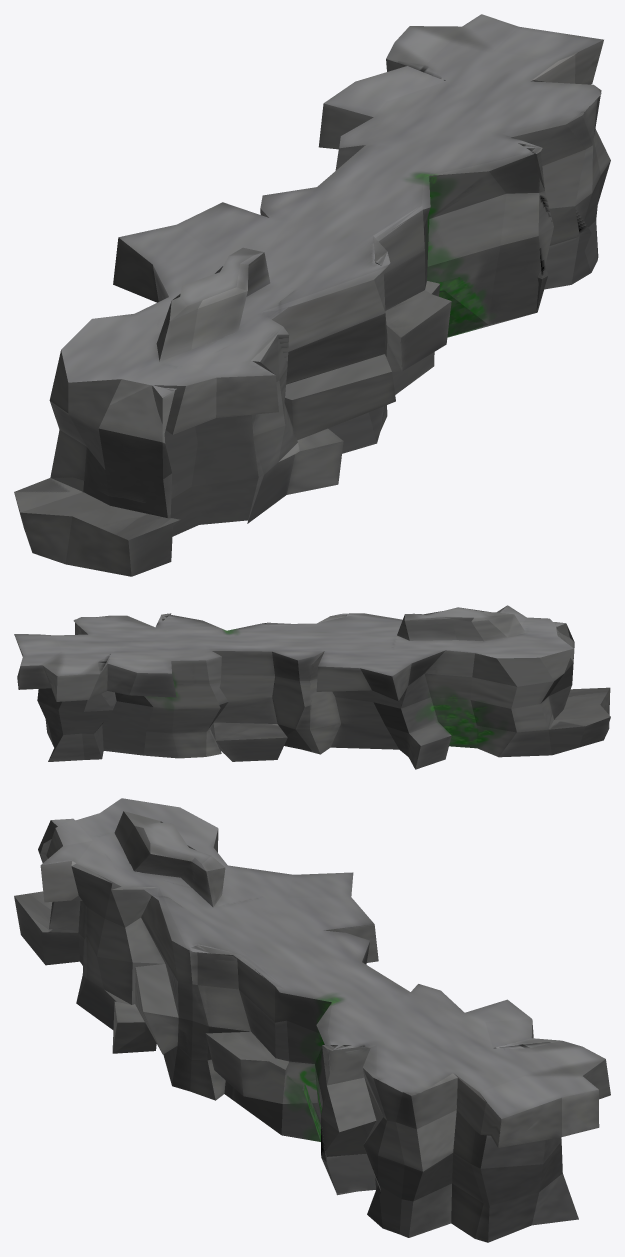
Rendered from batu 5.fbx.
3 renders of one model, top to bottom at view 1: azimuth 30°, elevation 25°; view 2: azimuth 150°, elevation 25°; view 3: azimuth 270°, elevation 25°, orthographic. The views are drawn at different scales.
Visible parts, largest first — view 1: Plane.006; view 2: Plane.006; view 3: Plane.006.
Boxes of the visible parts, x1,y1,x2,y2 form: Plane.006: (14, 14, 610, 576); Plane.006: (14, 605, 610, 769); Plane.006: (14, 798, 610, 1242).
Bounding box in the file's own units: 803 × 197 × 586.
